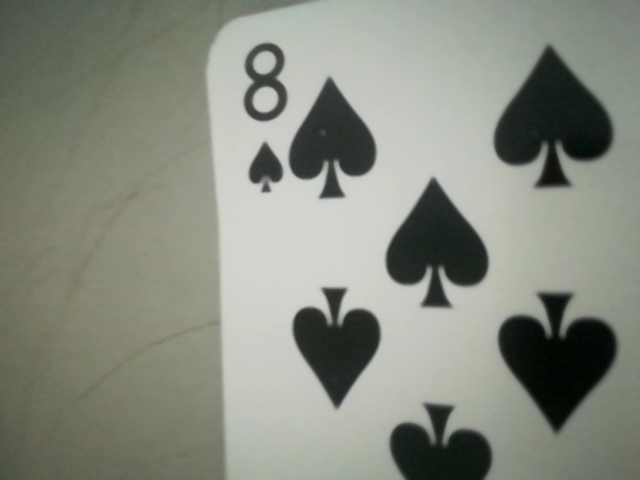ht 8: (222, 33, 306, 203)
